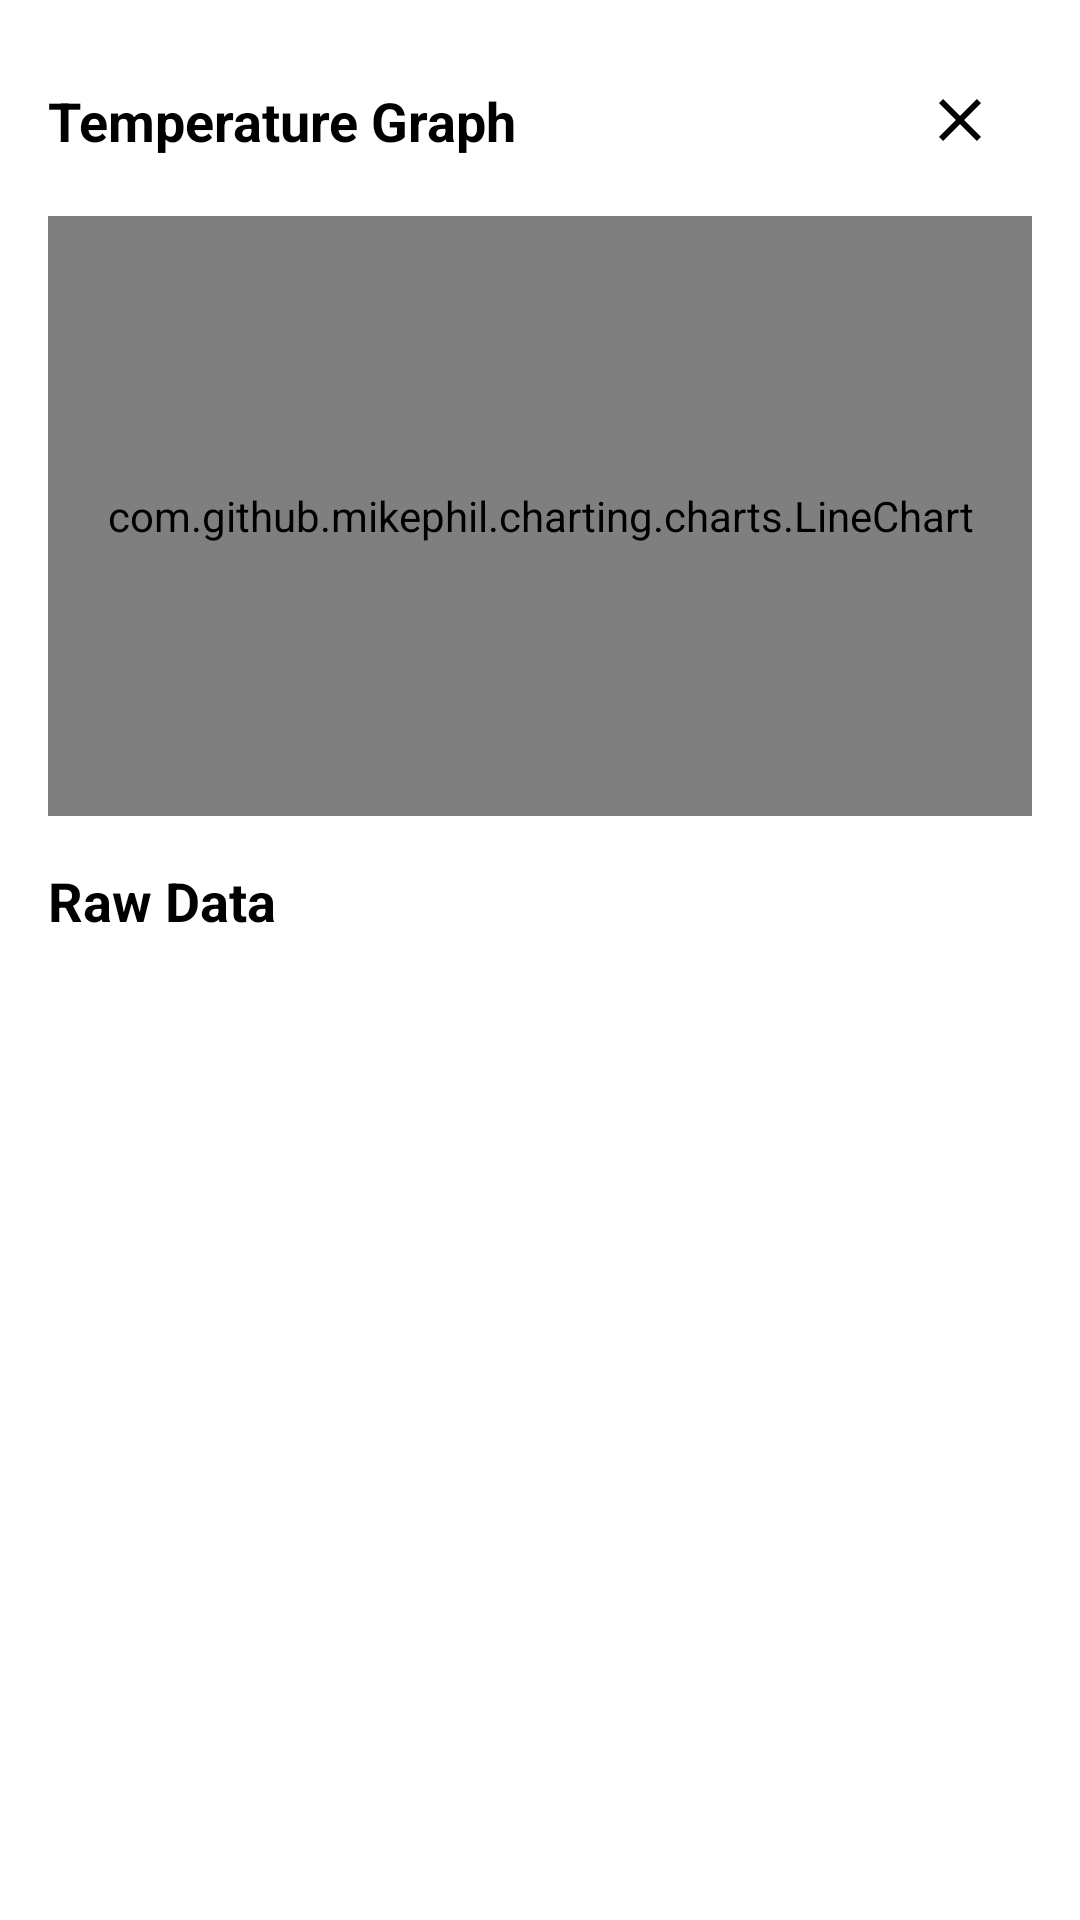

Point at icon controls on the screen. Image size 1080px×1920px, points as (x=x, y=y).
Close: (x=960, y=120)
